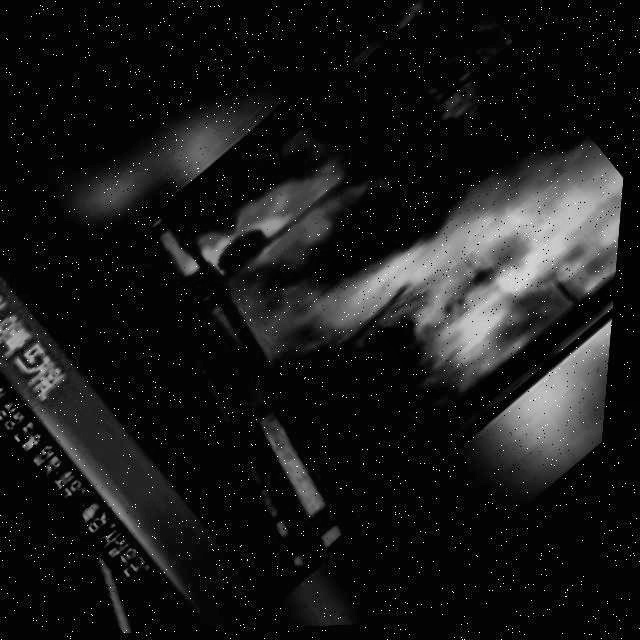Fire: (165, 137, 374, 331)
Smoke: (229, 65, 635, 485)
